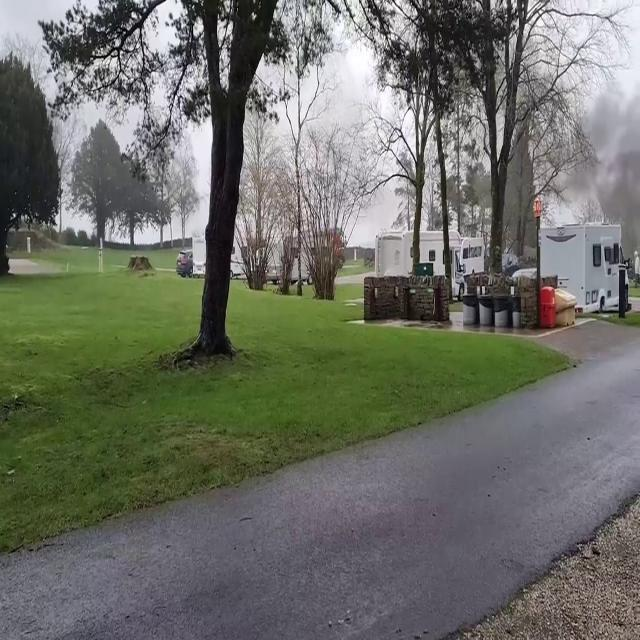Smoke: (554, 5, 640, 244)
